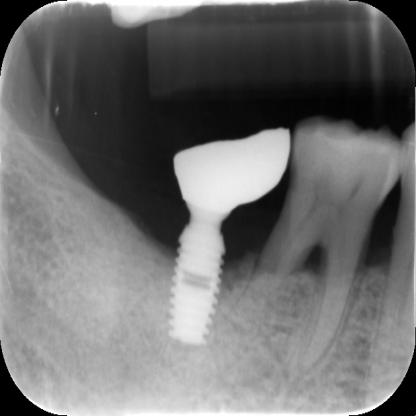Bicon: (162, 203, 235, 358)
